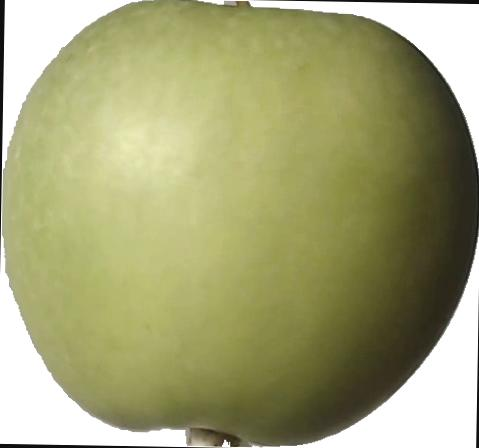Apple Unripe: (0, 0, 475, 448)
